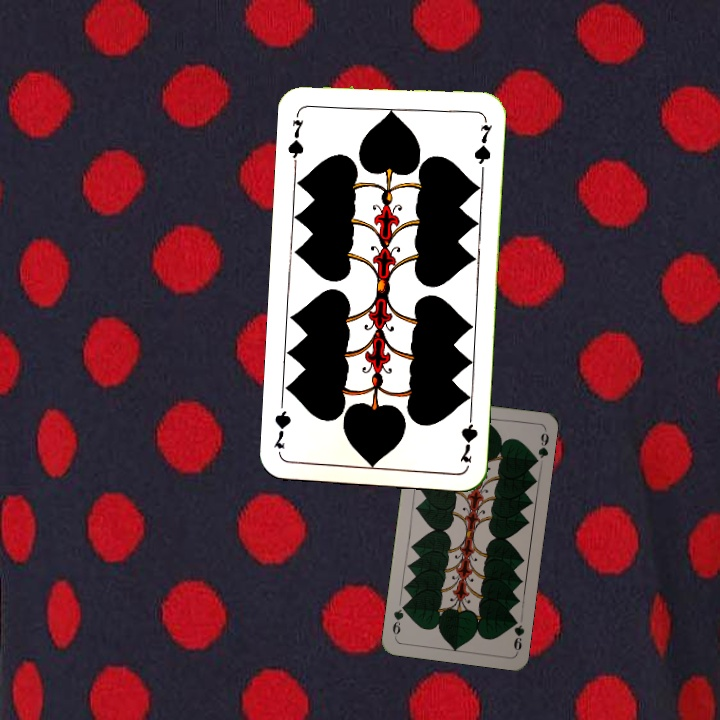G7: (455, 406, 480, 465), (283, 107, 307, 166)
G9: (508, 613, 527, 655)
